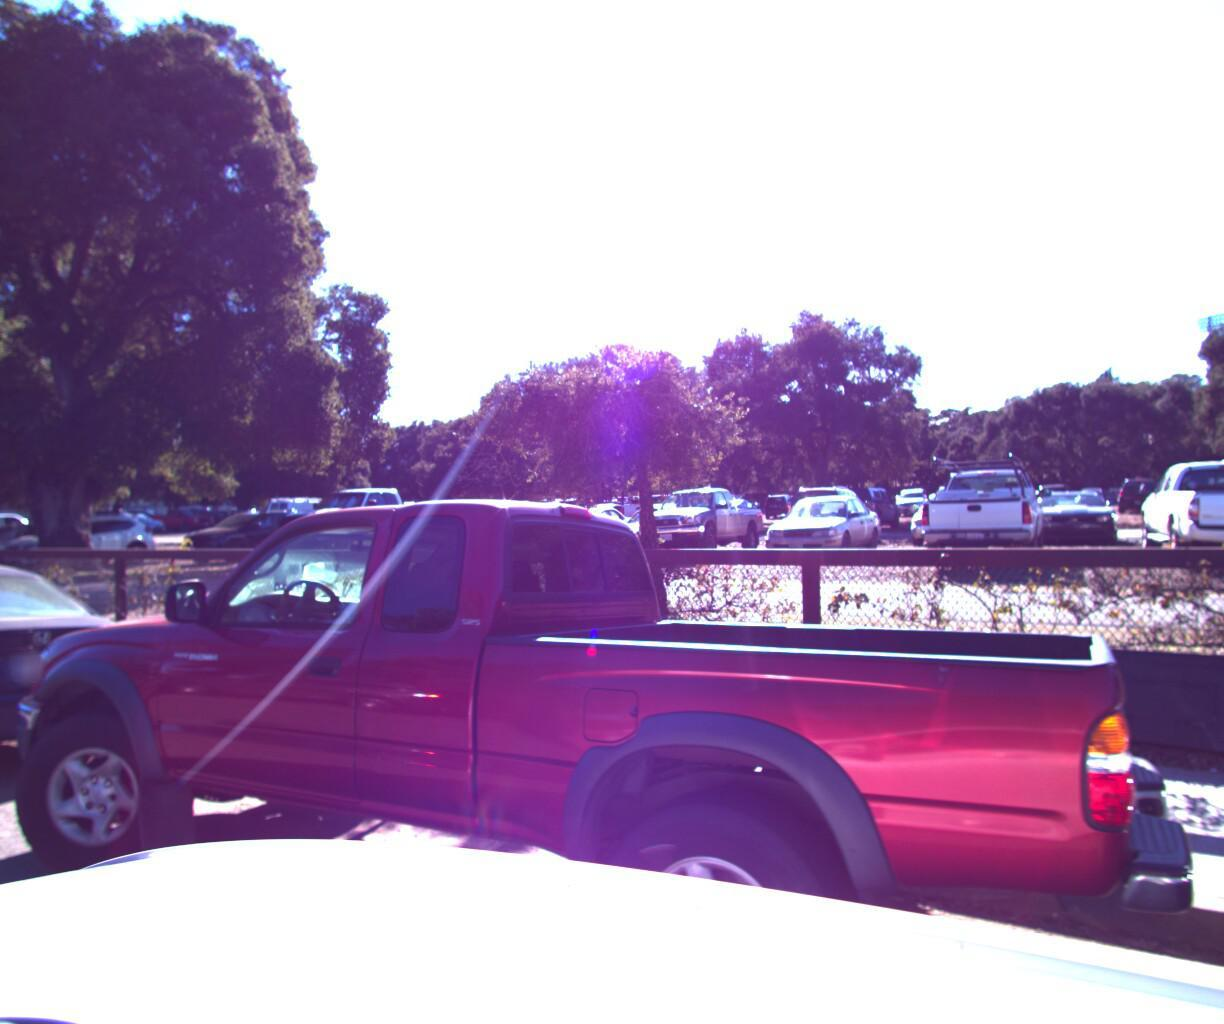car: (0, 431, 1213, 1024), (0, 550, 154, 819), (0, 508, 165, 571)
